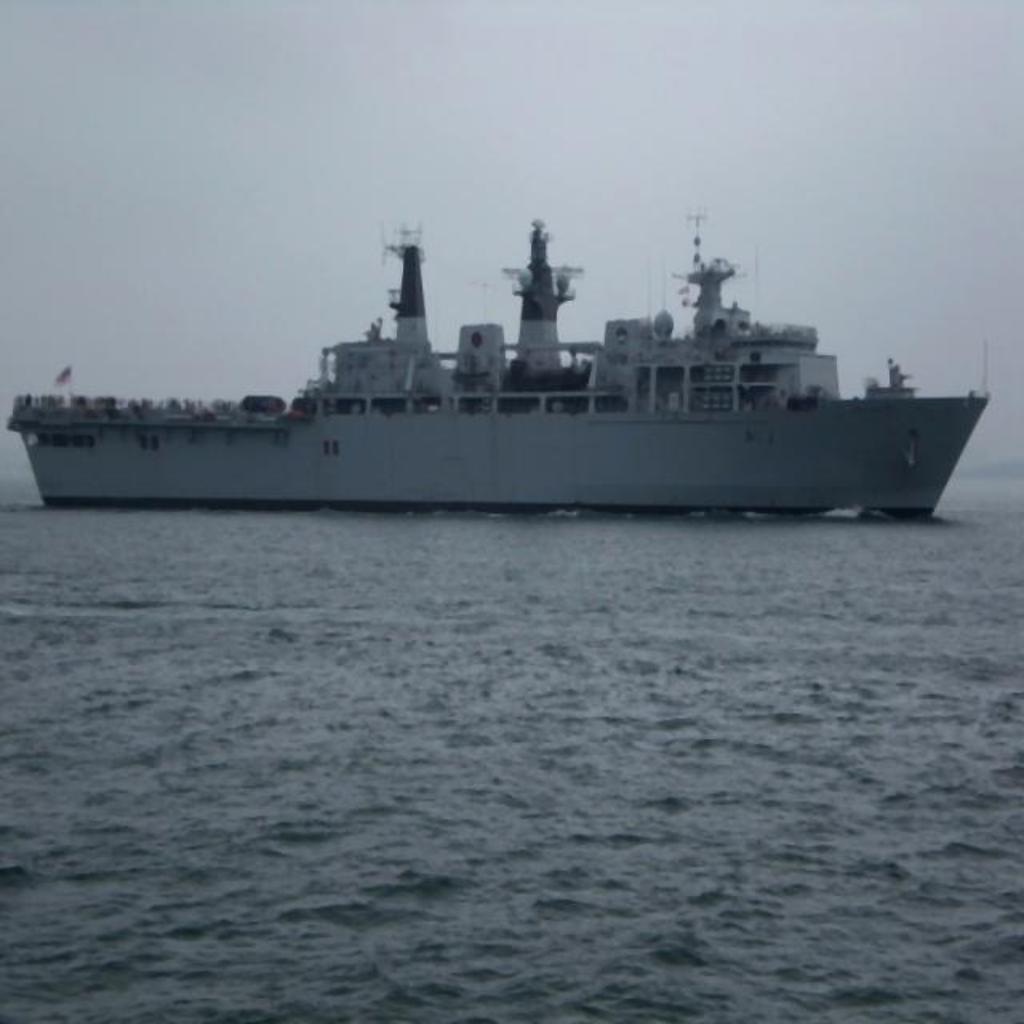Warship: (2, 194, 1000, 530)
